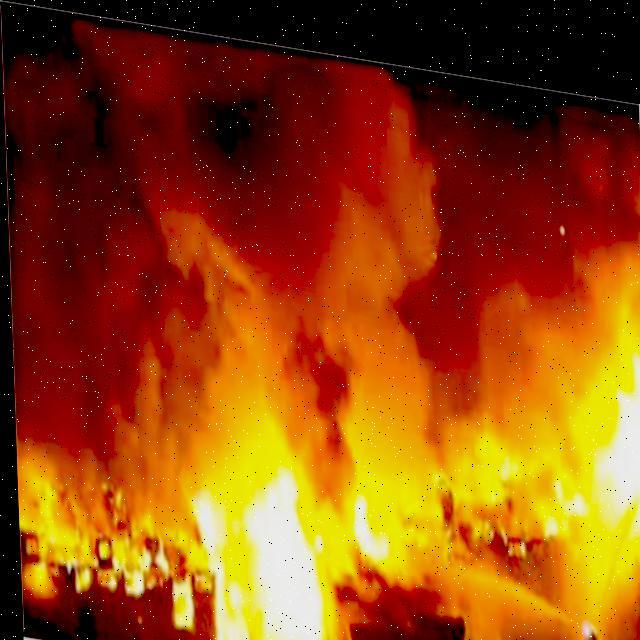Fire: (15, 238, 639, 639)
